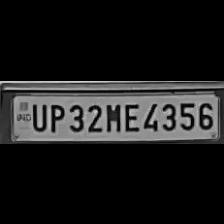2: (85, 100, 103, 132)
3: (65, 99, 84, 131), (158, 98, 176, 130)
4: (140, 98, 160, 130)
5: (177, 97, 195, 129)
6: (195, 98, 213, 130)
E: (121, 99, 139, 131)
M: (102, 98, 122, 132)
P: (47, 100, 65, 132)
U: (28, 99, 46, 130)
